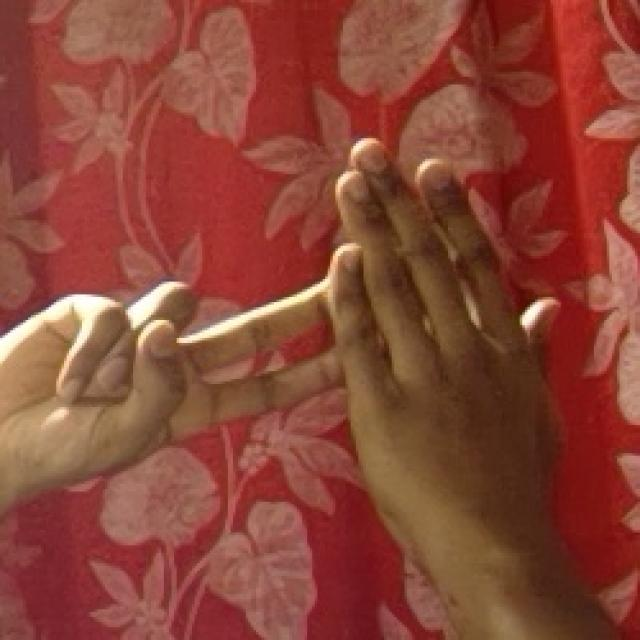Alphabet-N: (0, 126, 566, 528)
